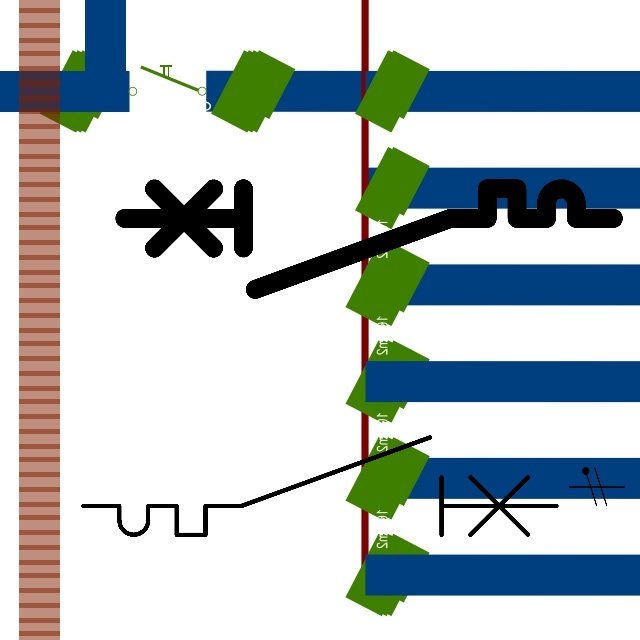interruptor_termomagnetico: (112, 176, 626, 302), (71, 425, 569, 547)
